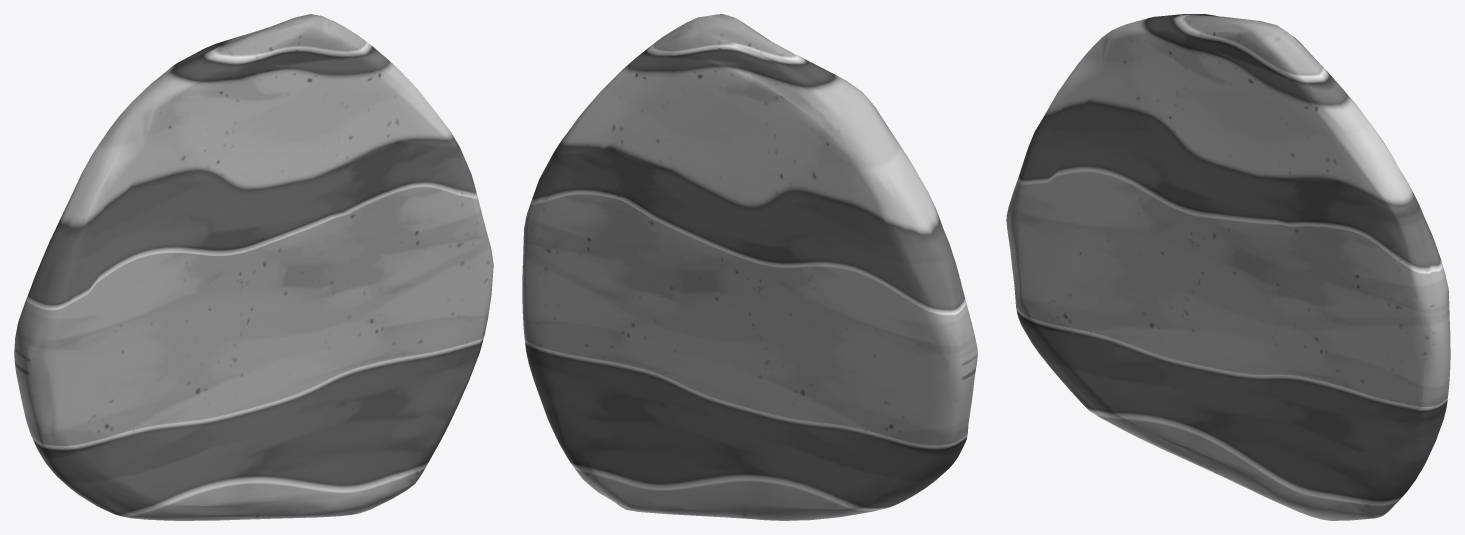
File: SM_UI_BGTitle.fbx
The picture shows the model from 3 angles, left to right: view 1: azimuth 30°, elevation 25°; view 2: azimuth 150°, elevation 25°; view 3: azimuth 330°, elevation 25°; orthographic projection. The views are drawn at different scales.
Visible parts, largest first — view 1: SM_UI_BGTitle_TitleOutline; view 2: SM_UI_BGTitle_TitleOutline; view 3: SM_UI_BGTitle_TitleOutline.
Part boxes in pixels (x1=…): SM_UI_BGTitle_TitleOutline: x1=14, y1=14, x2=493, y2=520; SM_UI_BGTitle_TitleOutline: x1=522, y1=14, x2=977, y2=520; SM_UI_BGTitle_TitleOutline: x1=1006, y1=14, x2=1450, y2=520.
Size of the model in its own units: 97.12 by 103 by 12.33.
1 material, 1 textured.
